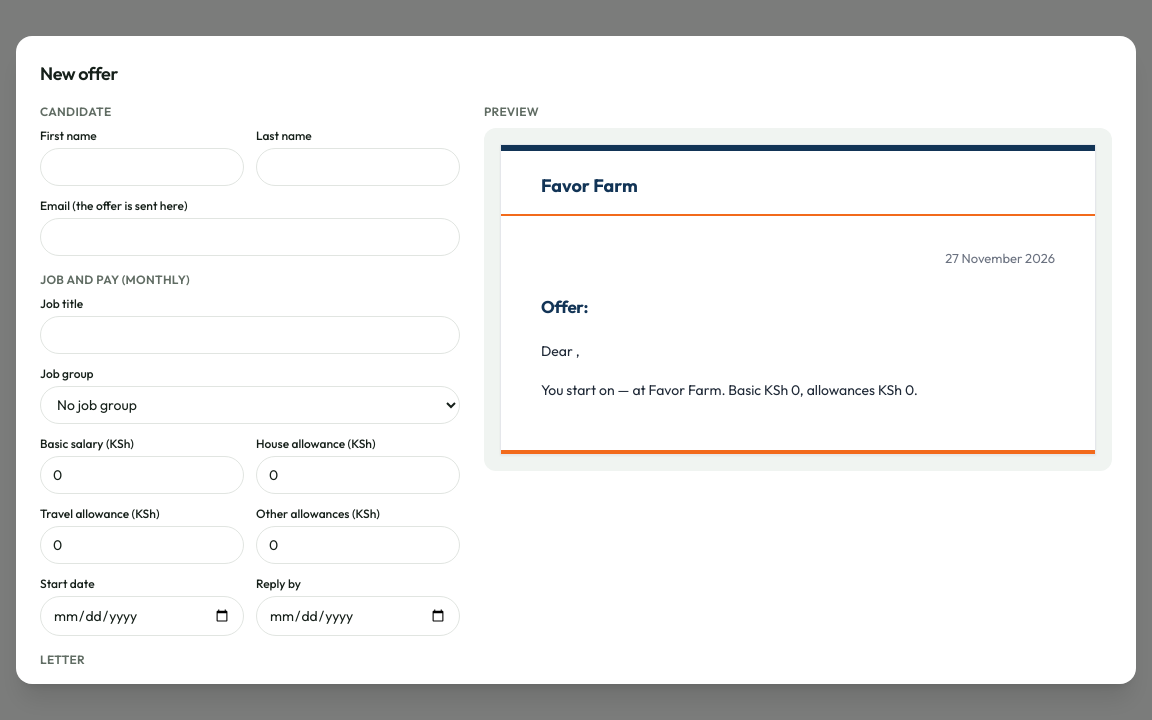
Test: OfferEditor › starts from the default template and previews the letter as it is typed, on the company’s letterhead
In the field labelled "First name": {"x": 142, "y": 167} x1=40 y1=148 x2=244 y2=186, type "Jane"
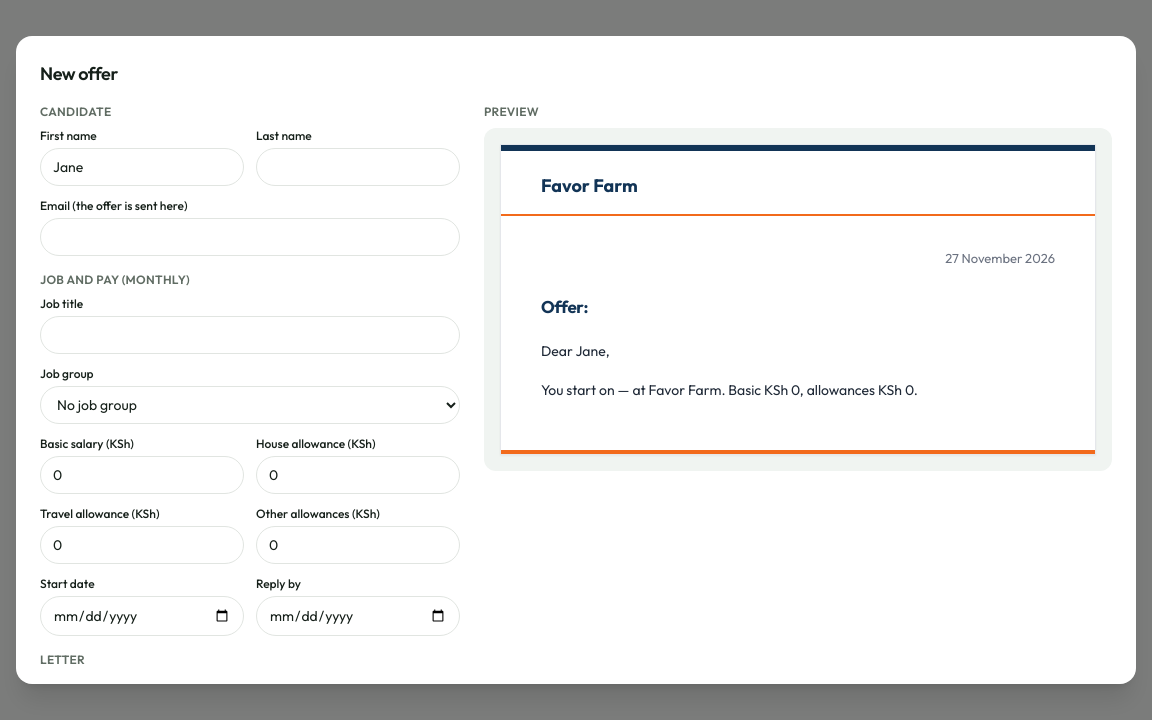
In the field labelled "Last name": {"x": 358, "y": 167} x1=256 y1=148 x2=460 y2=186, type "Wanjiku"
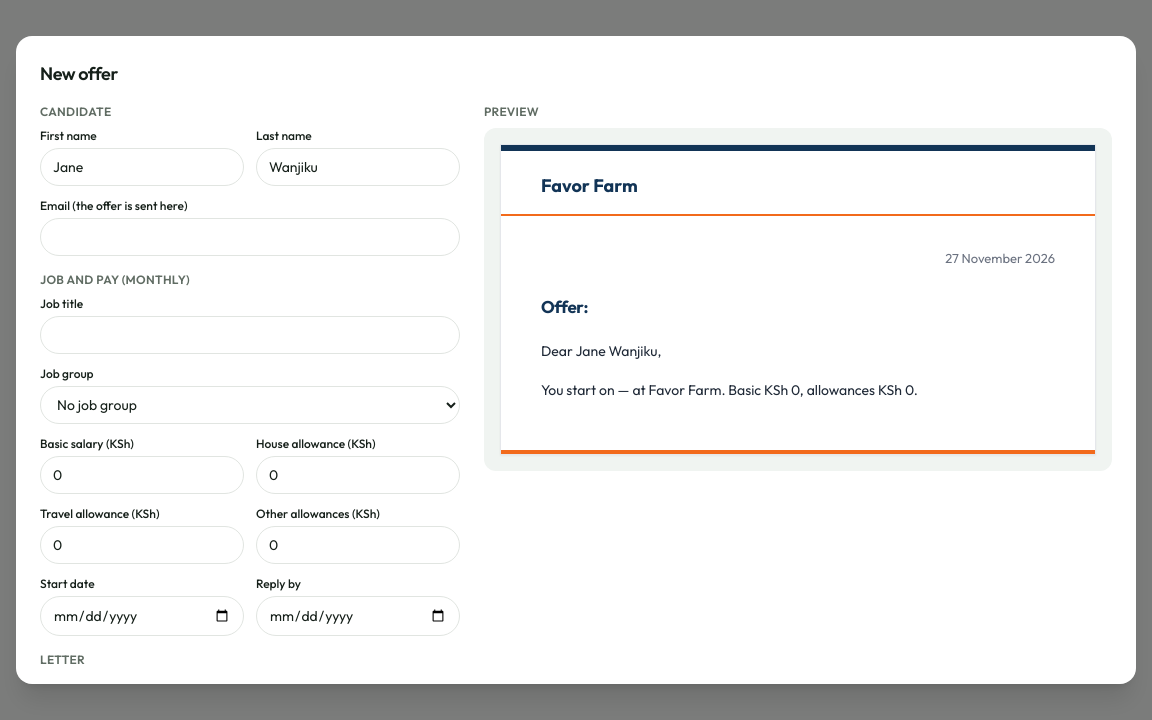
In the field labelled "Job title": {"x": 250, "y": 335} x1=40 y1=316 x2=460 y2=354, type "Accountant"
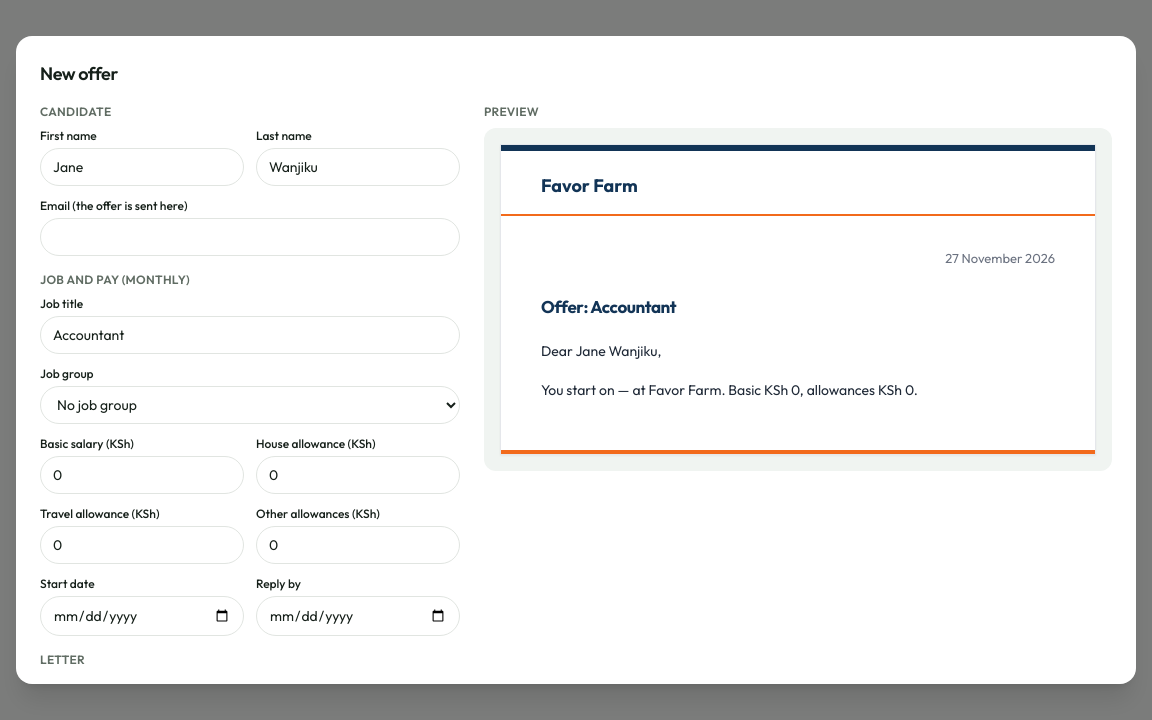
Expected: the text "Favor Farm" is shown, x1=541 y1=175 x2=638 y2=198
Now the text "Dear Jane Wanjiku," is shown, box x1=541 y1=342 x2=661 y2=360
Now the heading "Offer: Accountant" is shown, box x1=541 y1=296 x2=676 y2=317
